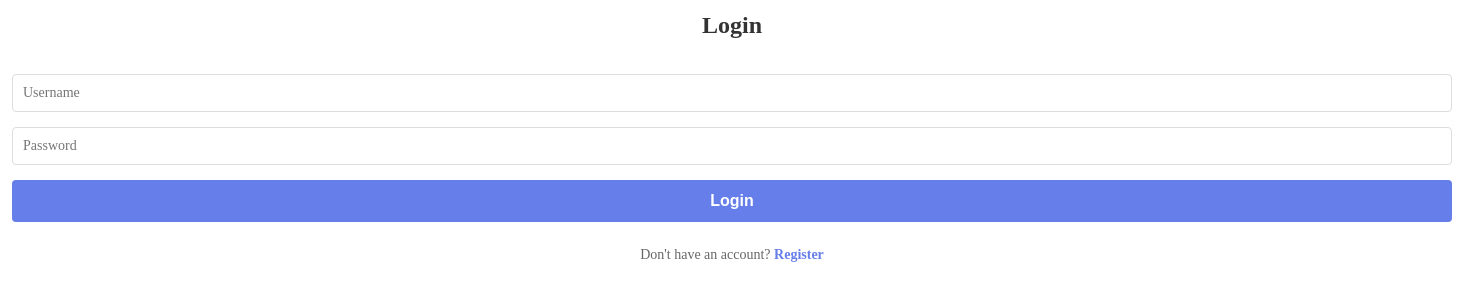
Test case: Login Mock Tests › Mock: Validation Error - Password trống
# Chỉ nhập username, để password trống
Type "testuser" into the field with test id "username-input".
click(732, 93); type("testuser")  # box [12,74,1452,112]
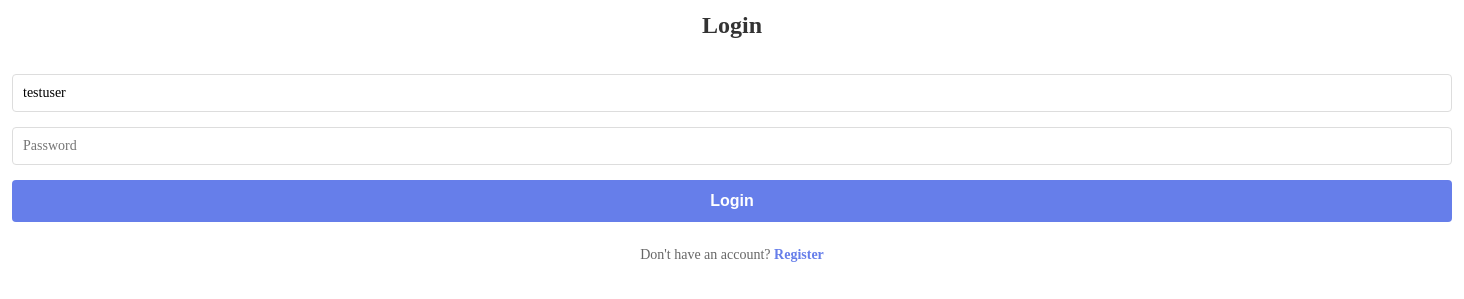
Click the button with test id "login-button".
click(732, 201)  # box [12,180,1452,222]
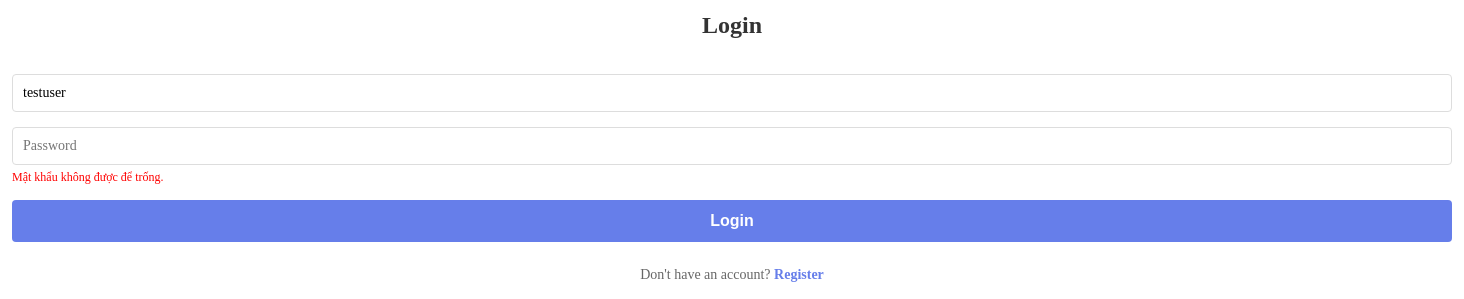
Expected: the text with test id "password-error" reads "Mật khẩu không được để trống.", [12,170,164,184]
